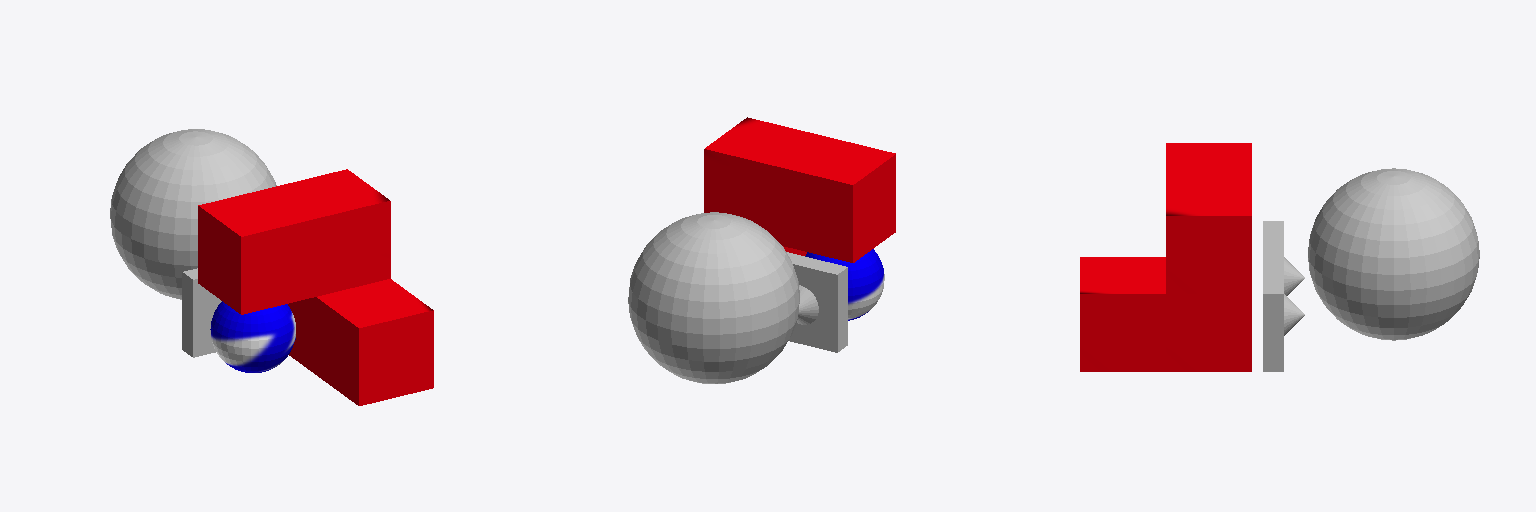
3 views of the same model, side by side, from view 1: azimuth 30°, elevation 25°; view 2: azimuth 150°, elevation 25°; view 3: azimuth 270°, elevation 25° (orthographic).
Parts seen in each view (by area): view 1: 立方体.002, teki_球.004, 立方体.001, プレイヤー_球.001, 立方体.004, 立方体; view 2: teki_球.004, 立方体.002, 立方体.004, プレイヤー_球.001; view 3: teki_球.004, 立方体.002, 立方体.001, 立方体, 円錐.001, 立方体.004.
Part boxes in pixels (x1,y1,x2,y2): 立方体.002: (198, 169, 390, 314); teki_球.004: (110, 129, 276, 299); 立方体.001: (316, 279, 433, 405); プレイヤー_球.001: (210, 301, 295, 372); 立方体.004: (182, 268, 221, 357); 立方体: (288, 297, 315, 374); teki_球.004: (628, 212, 799, 383); 立方体.002: (704, 117, 895, 262); 立方体.004: (787, 252, 847, 352); プレイヤー_球.001: (805, 249, 884, 320); teki_球.004: (1308, 168, 1479, 340); 立方体.002: (1166, 143, 1251, 293); 立方体.001: (1080, 257, 1165, 371); 立方体: (1166, 294, 1251, 371); 円錐.001: (1263, 257, 1304, 371); 立方体.004: (1263, 221, 1304, 295).
Bounding box in the file's own units: 4.16 × 4 × 9.28.
Materials: 5 (2 with a texture image).